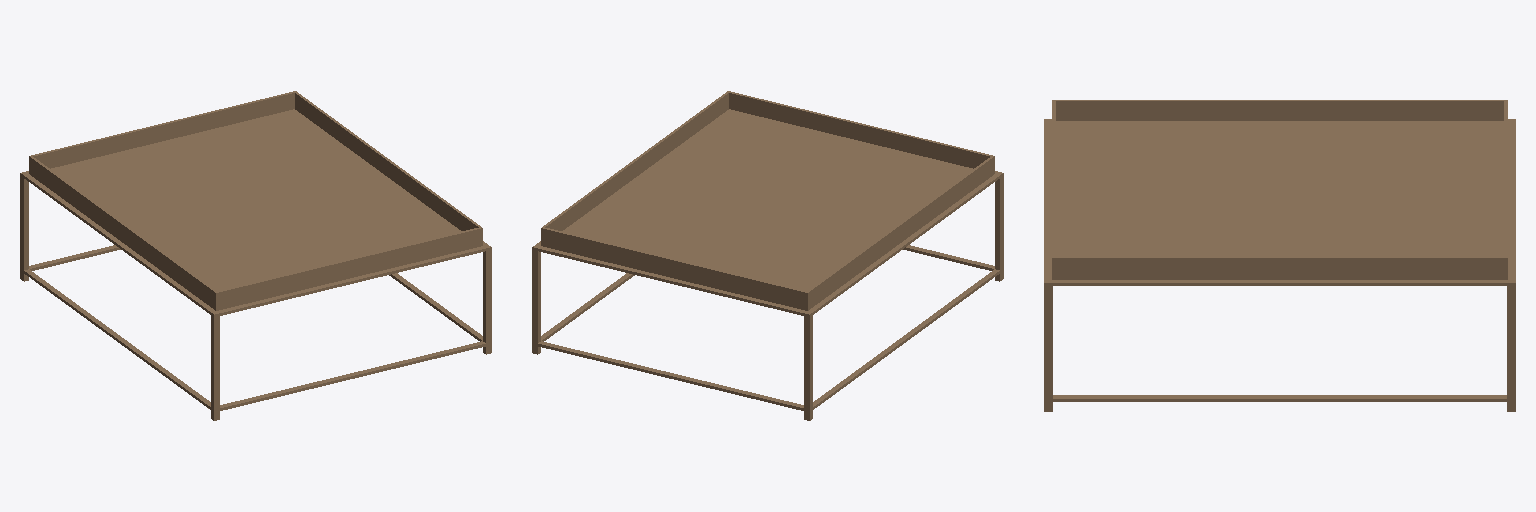
robot.urdf — model.urdf:
<?xml version="0.0" ?>
<robot name="model.urdf">
  <link name="baseLink">
    <contact>
      <friction_anchor/>
      <lateral_friction value="0.3"/>
      <rolling_friction value="0.0"/>
      <contact_cfm value="0.0"/>
      <contact_erp value="1.0"/>
    </contact>
    <inertial>
       <origin rpy="0 0 0" xyz="0 0 0"/>
       <mass value="0.1"/>
       <inertia ixx="8e-05" ixy="0" ixz="0" iyy="0.0002" iyz="0" izz="0.0002"/>
    </inertial>
    <visual>
          <origin xyz="0 0 0" rpy="0 0 0"/>
      <geometry>
        <mesh filename="Mesa.stl" scale="0.7 0.7 0.3"/>
      </geometry>
      <material name="Black">
  <color rgba="0.6 0.5 0.4 1"/>
      </material>
    </visual>
    <collision>
          <origin xyz="0 0 0" rpy="0 0 0"/>
      <geometry>
        <mesh filename="Mesa.stl"  scale="0.7 0.7 0.3"/>
      </geometry>
    </collision>
  </link>
</robot>

--- Facts derived from the render (not from the file) ---
3 views of the same robot in one strip: view 1: azimuth 30°, elevation 25°; view 2: azimuth 150°, elevation 25°; view 3: azimuth 270°, elevation 25° (orthographic).
Robot: model.urdf — 1 links, 0 joints (none); root link baseLink; default pose: all joints at 0.
Visible links, largest first — view 1: baseLink; view 2: baseLink; view 3: baseLink.
Link boxes in pixels (<box>): baseLink: <box>20,91,491,420</box>; baseLink: <box>532,91,1003,420</box>; baseLink: <box>1044,100,1515,411</box>.
Size in the robot's own frame: 0.2659 by 0.322 by 0.114 metres.
1 mesh visuals loaded from 1 distinct referenced files (1 binary STL).